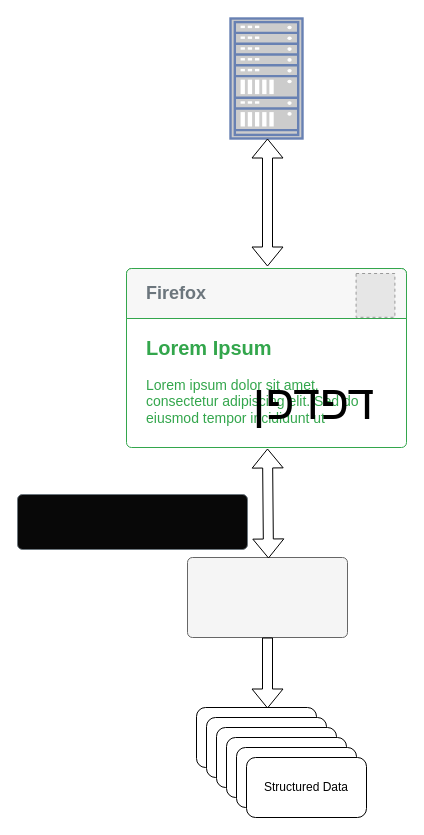
The diagram is 424 pixels wide and 835 high, and some of its shapes have lost their labels. Grey dashed boxes stand in for pictures. Here are the shapes that lost their labels. From the top down, the centre of each, then its label:
At point (132, 522): "driver:Driver = Driver(Chrome) driver.execute_locator(locator)".
At point (267, 597): "selenium".
